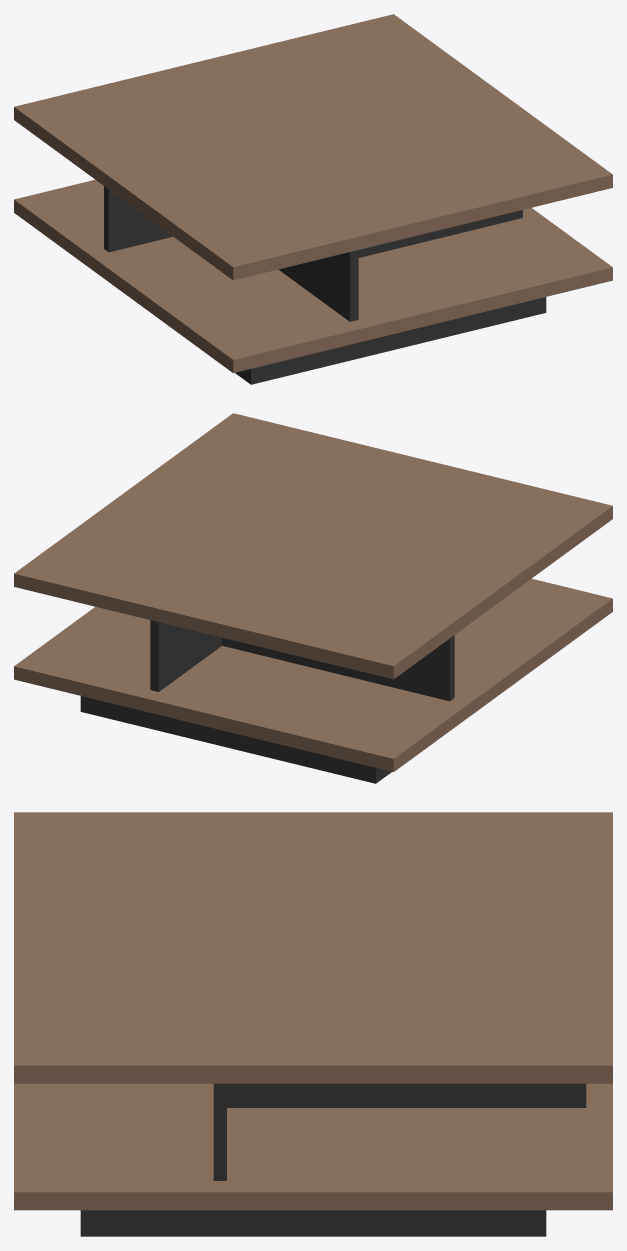
The model's file is 409_ローテーブル.glb.
The picture shows the model from 3 angles, top to bottom: view 1: azimuth 30°, elevation 25°; view 2: azimuth 150°, elevation 25°; view 3: azimuth 270°, elevation 25°; orthographic projection. The views are drawn at different scales.
Visible parts, largest first — view 1: 409_ローテーブル; view 2: 409_ローテーブル; view 3: 409_ローテーブル.
Boxes of the visible parts, bbox=[...] form: 409_ローテーブル: bbox=[14, 14, 612, 384]; 409_ローテーブル: bbox=[14, 413, 612, 783]; 409_ローテーブル: bbox=[14, 812, 612, 1236].
Bounding box in the file's own units: 0.9 × 0.33 × 0.9.
